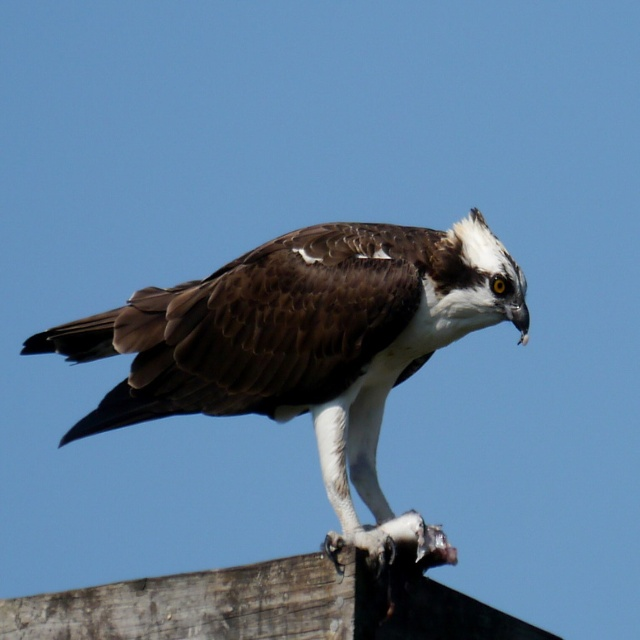Eagle: (19, 205, 532, 576)
